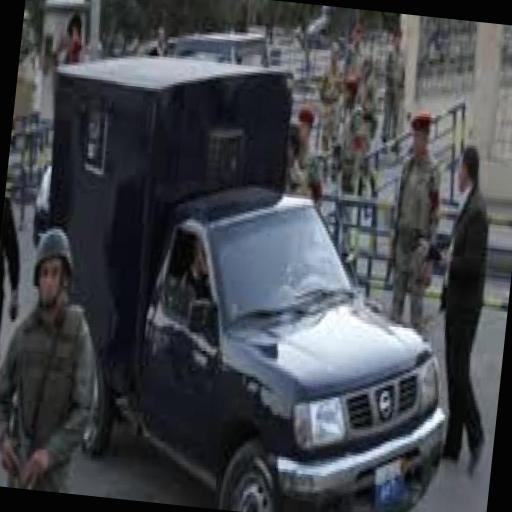Ambulance: (12, 43, 483, 512)
